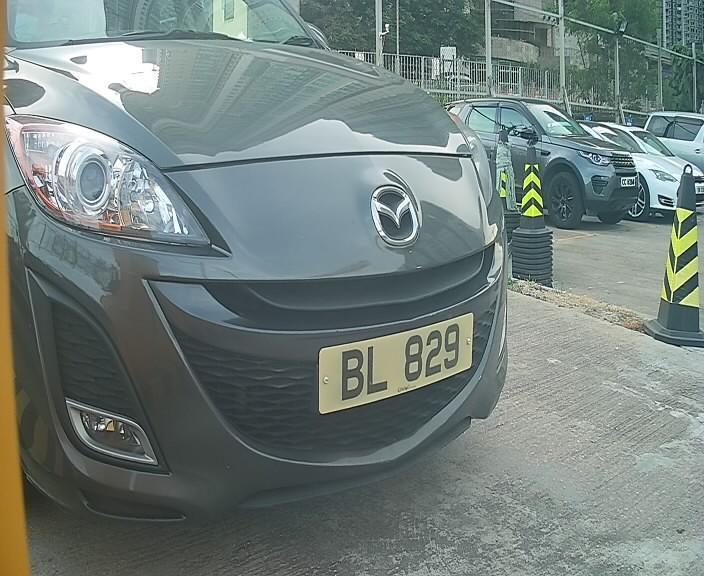privatecar: (13, 8, 535, 517)
